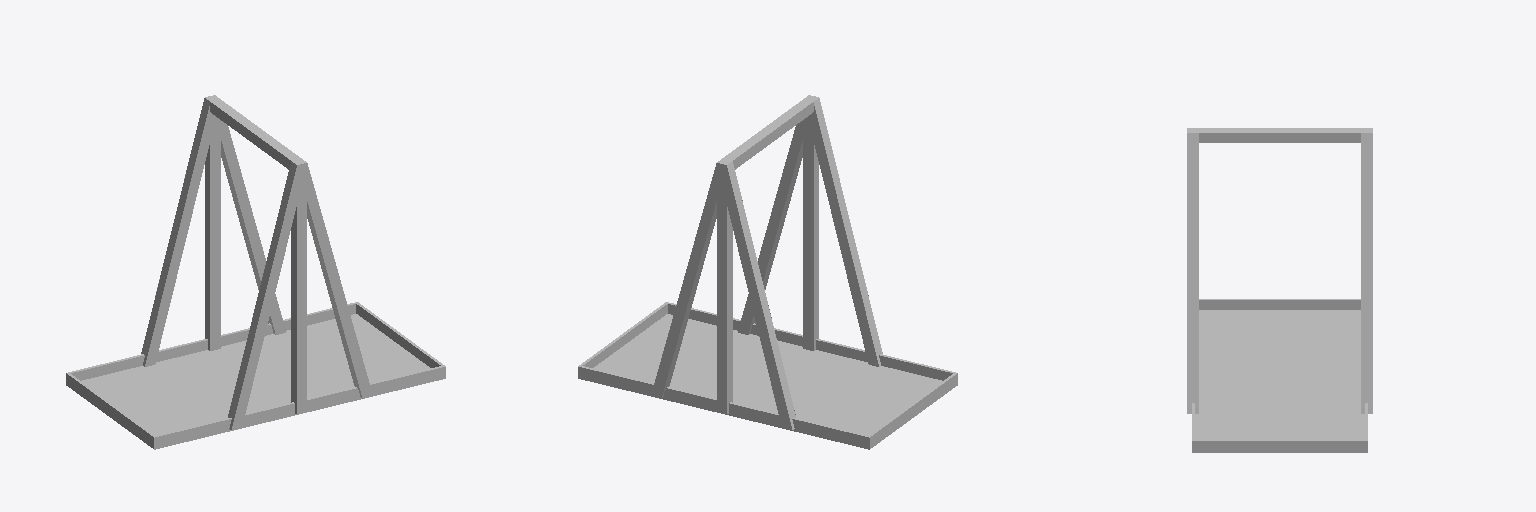
Rendered from table.obj.
The picture shows the model from 3 angles: view 1: azimuth 30°, elevation 25°; view 2: azimuth 150°, elevation 25°; view 3: azimuth 270°, elevation 25°; orthographic projection.
Visible parts, largest first — view 1: Tisch_Cube; view 2: Tisch_Cube; view 3: Tisch_Cube.
Part boxes in pixels (bbox=[...]): Tisch_Cube: bbox=[66, 95, 445, 449]; Tisch_Cube: bbox=[578, 95, 957, 449]; Tisch_Cube: bbox=[1187, 128, 1372, 452].
Bounding box in the file's own units: 2 × 1.65 × 1.1.